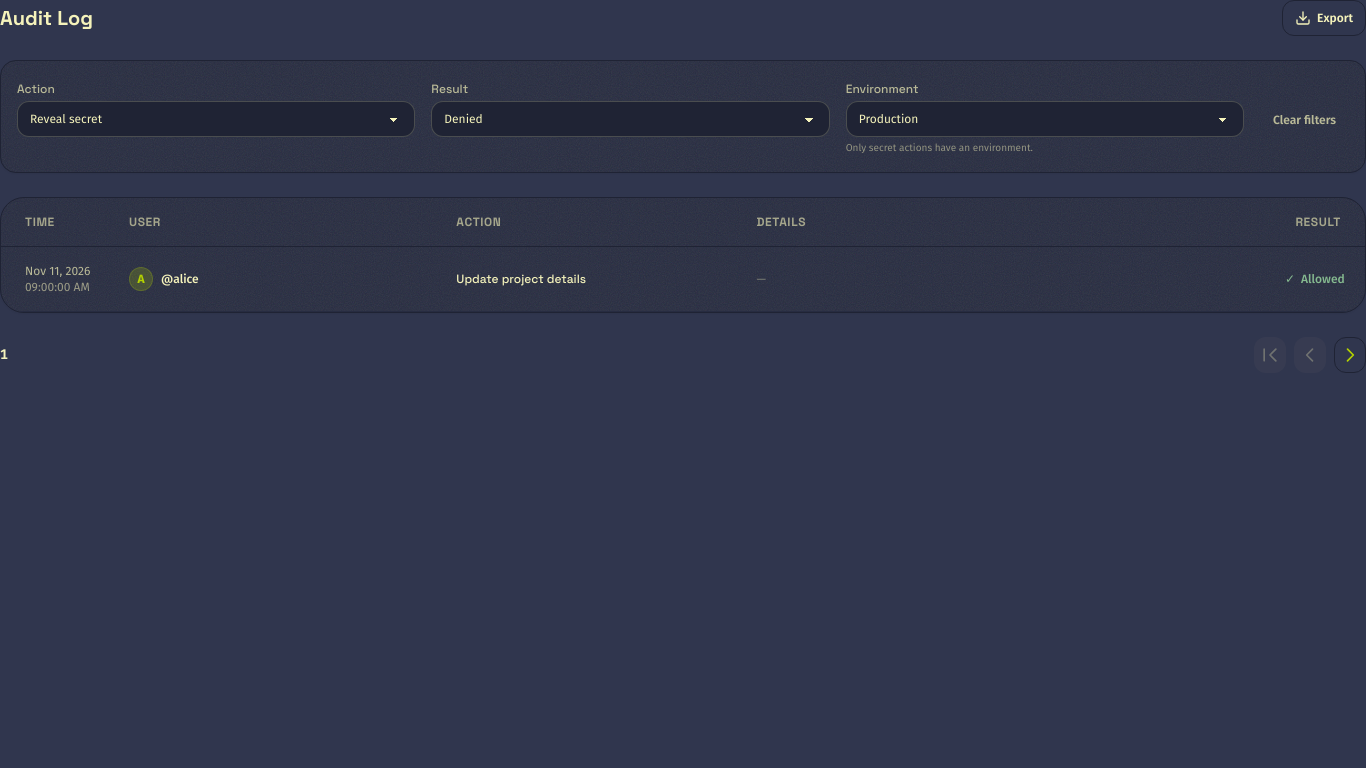
Test case: ProjectAuditLogPage › renders single Export button that opens modal with format and filter options for projectAdmin/auditor, and hides it for developer
Later steps or results of the test are not shown.
Click the button "Export" at (1324, 18), box [1282,0,1365,36]
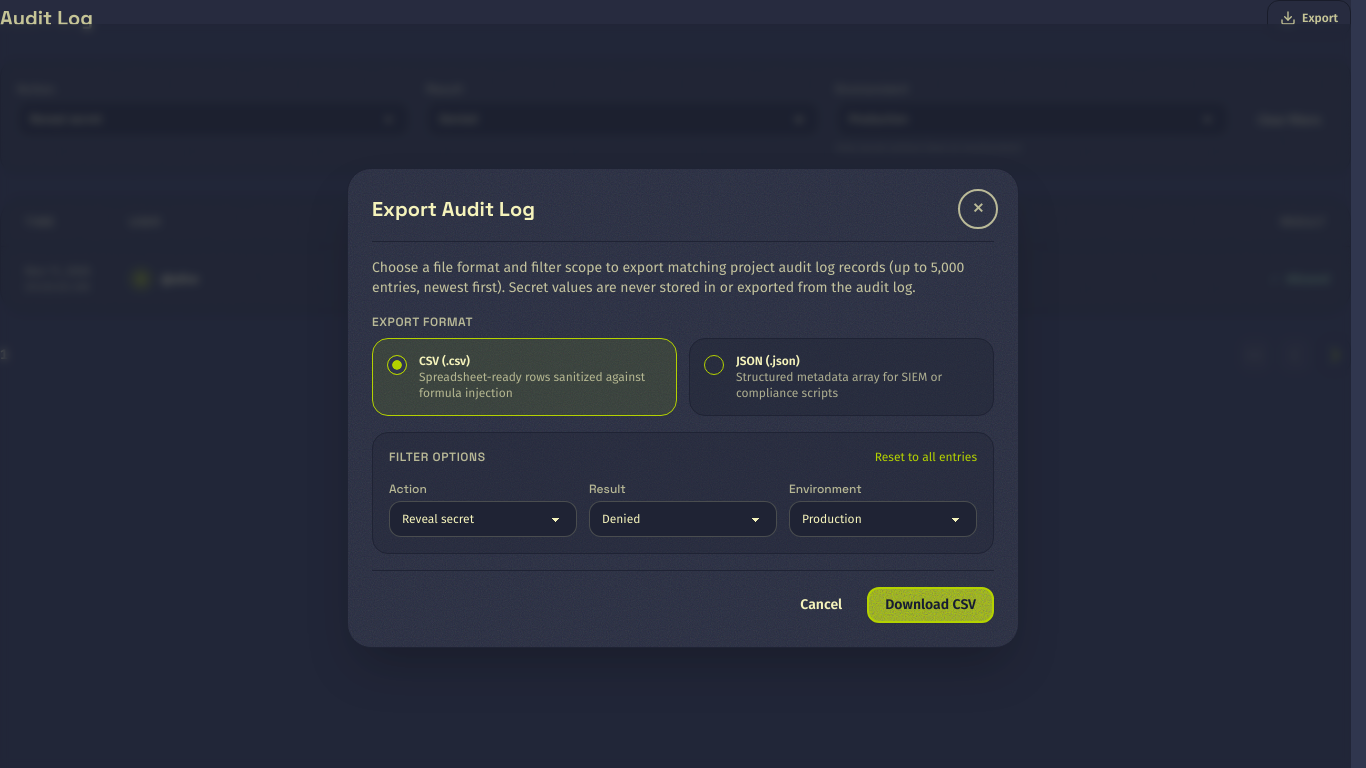
Now the heading "Export Audit Log" is shown, box [372,195,535,223]
Now the dropdown named "Export action filter" shows "Reveal secret", box [389,501,577,537]
Now the dropdown named "Export result filter" shows "Denied", box [589,501,777,537]
